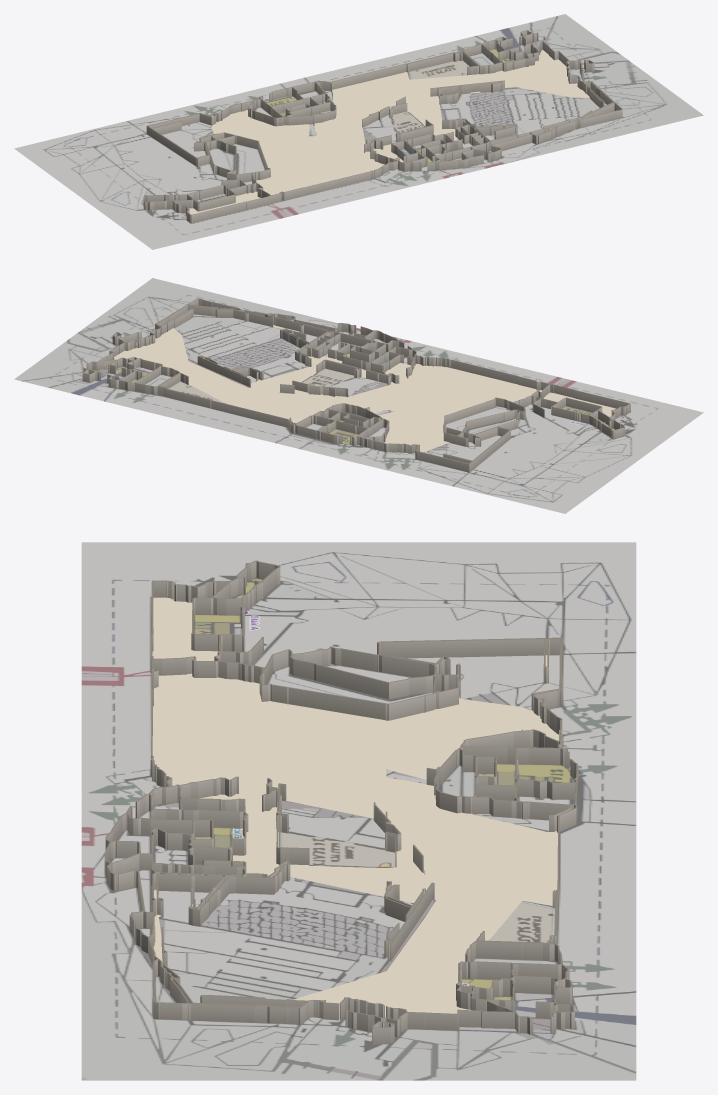
Rendered from level1.glb.
The picture shows the model from 3 angles, top to bottom: view 1: azimuth 30°, elevation 25°; view 2: azimuth 150°, elevation 25°; view 3: azimuth 270°, elevation 25°; orthographic projection. The views are drawn at different scales.
Parts seen in each view (by area): view 1: Floor, Walls, Corridors; view 2: Floor, Walls, Corridors; view 3: Floor, Walls, Corridors.
Part boxes in pixels (bbox=[...]): Floor: bbox=[14, 14, 703, 249]; Walls: bbox=[143, 30, 622, 223]; Corridors: bbox=[188, 49, 589, 214]; Floor: bbox=[14, 278, 703, 513]; Walls: bbox=[82, 298, 630, 472]; Corridors: bbox=[114, 325, 615, 452]; Floor: bbox=[81, 542, 636, 1080]; Walls: bbox=[104, 560, 578, 1044]; Corridors: bbox=[152, 597, 558, 1019].
Bounding box in the file's own units: 843 × 12 × 367.
Materials: 3 (1 with a texture image).
